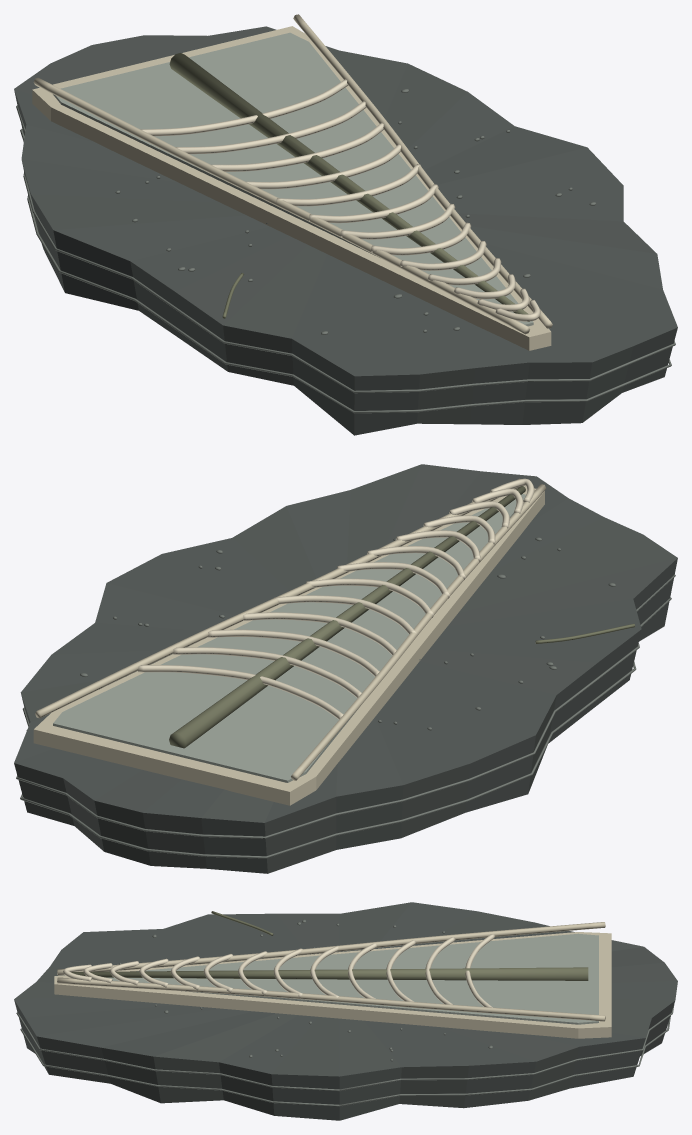
File: OrthoconeFossil.fbx
The picture shows the model from 3 angles, top to bottom: view 1: azimuth 30°, elevation 25°; view 2: azimuth 150°, elevation 25°; view 3: azimuth 270°, elevation 25°; orthographic projection. The views are drawn at different scales.
Visible parts, largest first — view 1: Material group OrthoconeFossil_DarkLimestone, Material group OrthoconeFossil_ChamberInfill, Material group OrthoconeFossil_ShellWall, Material group OrthoconeFossil_Septa, Material group OrthoconeFossil_Siphuncle, Material group OrthoconeFossil_CalciticMatrix; view 2: Material group OrthoconeFossil_DarkLimestone, Material group OrthoconeFossil_ChamberInfill, Material group OrthoconeFossil_ShellWall, Material group OrthoconeFossil_Septa, Material group OrthoconeFossil_Siphuncle, Material group OrthoconeFossil_CalciticMatrix; view 3: Material group OrthoconeFossil_DarkLimestone, Material group OrthoconeFossil_ChamberInfill, Material group OrthoconeFossil_ShellWall, Material group OrthoconeFossil_Siphuncle, Material group OrthoconeFossil_Septa, Material group OrthoconeFossil_CalciticMatrix.
Part boxes in pixels (box(x1,y1,x2,y2)): Material group OrthoconeFossil_DarkLimestone: box(14, 26, 677, 435); Material group OrthoconeFossil_ChamberInfill: box(53, 32, 533, 326); Material group OrthoconeFossil_ShellWall: box(32, 14, 552, 350); Material group OrthoconeFossil_Septa: box(140, 79, 540, 321); Material group OrthoconeFossil_Siphuncle: box(169, 53, 529, 321); Material group OrthoconeFossil_CalciticMatrix: box(16, 89, 675, 413); Material group OrthoconeFossil_DarkLimestone: box(14, 464, 677, 873); Material group OrthoconeFossil_ChamberInfill: box(53, 494, 525, 782); Material group OrthoconeFossil_ShellWall: box(33, 478, 546, 805); Material group OrthoconeFossil_Septa: box(138, 478, 534, 719); Material group OrthoconeFossil_Siphuncle: box(169, 486, 634, 748); Material group OrthoconeFossil_CalciticMatrix: box(16, 537, 675, 858); Material group OrthoconeFossil_DarkLimestone: box(14, 902, 677, 1120); Material group OrthoconeFossil_ChamberInfill: box(107, 933, 598, 1024); Material group OrthoconeFossil_ShellWall: box(54, 922, 611, 1038); Material group OrthoconeFossil_Siphuncle: box(71, 911, 588, 980); Material group OrthoconeFossil_Septa: box(63, 934, 495, 1007); Material group OrthoconeFossil_CalciticMatrix: box(16, 919, 674, 1106).
Bounding box in the file's own units: 0.6221 × 0.1205 × 1.
